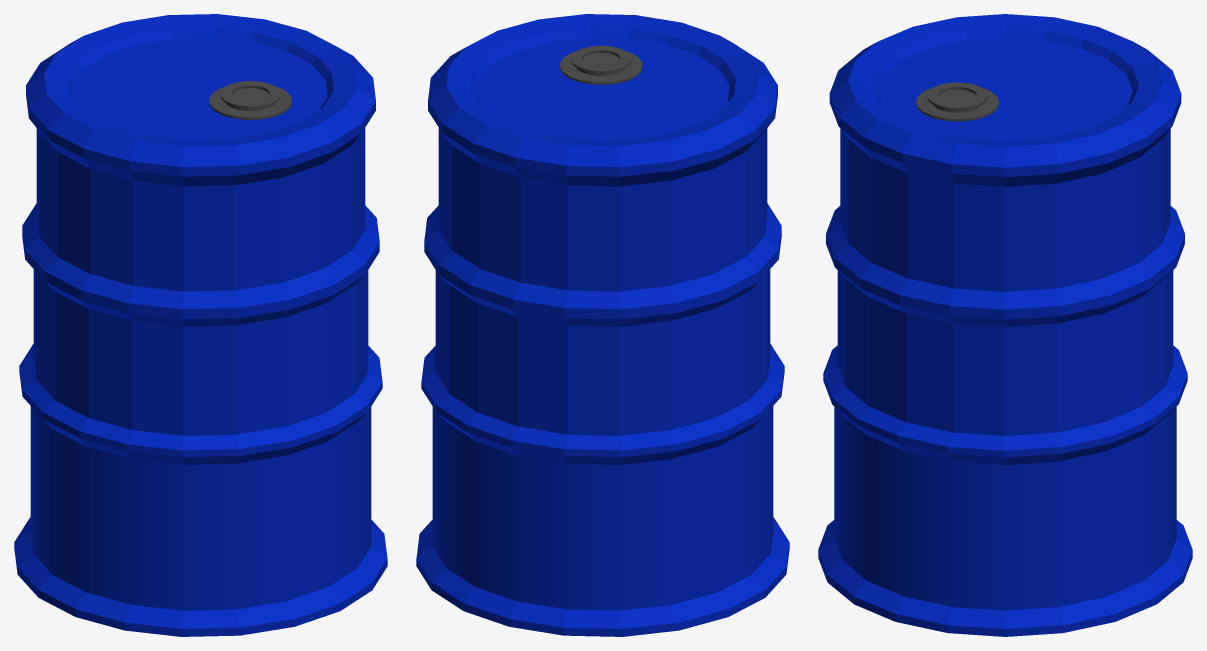
File: Modular_OilTank.fbx
The picture shows the model from 3 angles, left to right: view 1: azimuth 30°, elevation 25°; view 2: azimuth 150°, elevation 25°; view 3: azimuth 270°, elevation 25°; orthographic projection.
Visible parts, largest first — view 1: Modular_OilBarrel; view 2: Modular_OilBarrel; view 3: Modular_OilBarrel.
Boxes of the visible parts, x1=… form: Modular_OilBarrel: x1=14, y1=14, x2=387, y2=636; Modular_OilBarrel: x1=416, y1=14, x2=789, y2=636; Modular_OilBarrel: x1=818, y1=14, x2=1192, y2=636.
Bounding box in the file's own units: 59.16 × 83.19 × 59.16.
